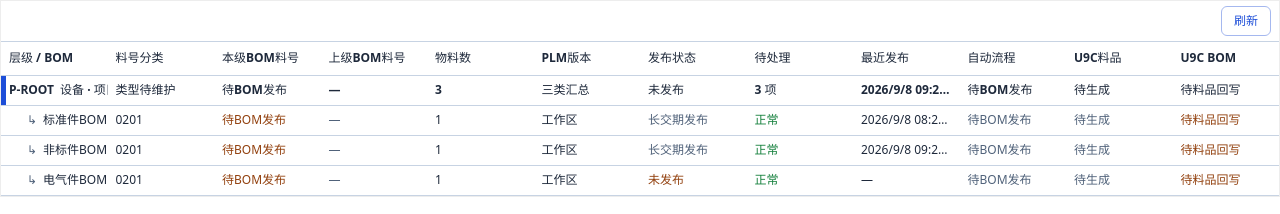
BomHierarchyOverview › aggregates 长交期发布 and 正式发布 across the three category BOMs for the master row
The width and height of the screenshot is (1280, 214).
Expected: the cell "长交期发布" in the row of "2026/9/8 08:21:00" is shown, [648,111,708,128]
Expected: the 2nd cell "长交期发布" is shown, [640,135,746,165]
Click the button with aria-label "刷新多级BOM". click: [1246, 21]
box: [1221,6,1271,36]
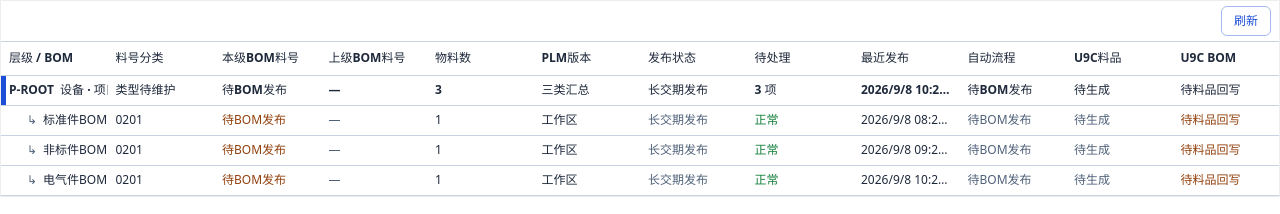
Result: the cell "长交期发布" in the row of "P-ROOT" is shown at [648,81,708,98]
Click the button with aria-label "刷新多级BOM". click: [1246, 21]
box: [1221,6,1271,36]
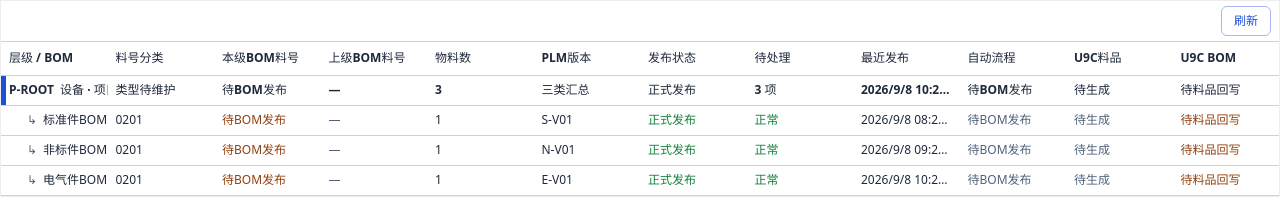
Result: the cell "正式发布" in the row of "P-ROOT" is shown at [648,81,696,98]
Result: the cell "正式发布" next to "E-V01" is shown at [648,171,696,188]
